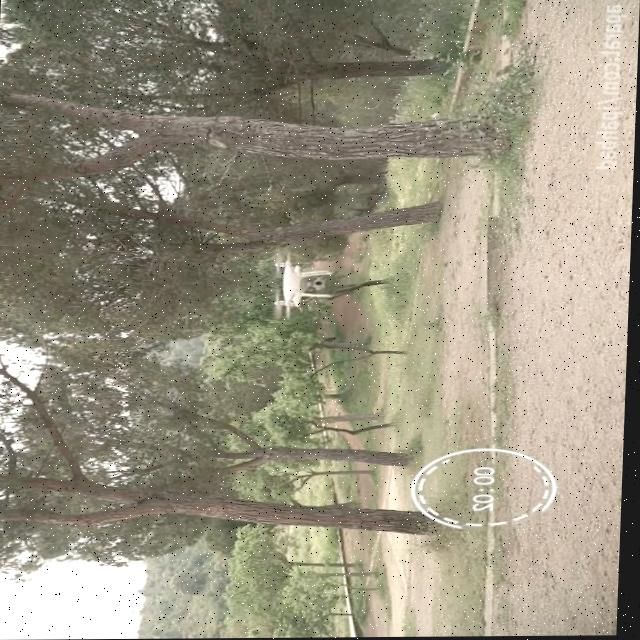drone: (269, 251, 334, 321)
